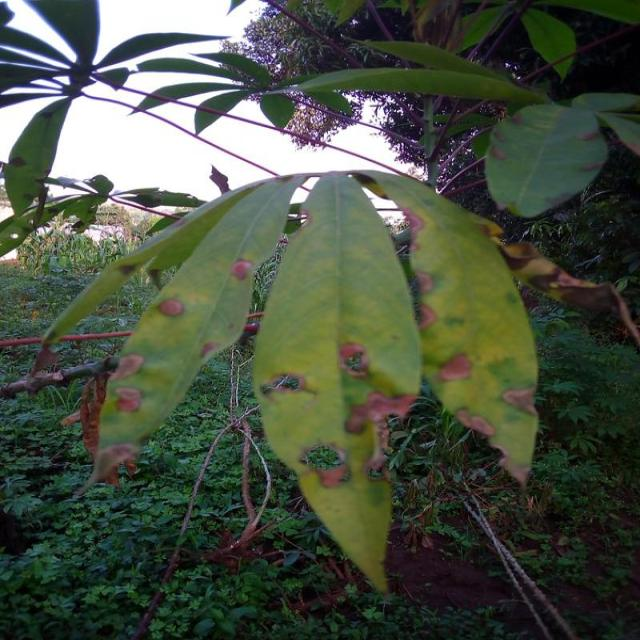cassava leaf: (251, 171, 423, 595), (90, 172, 310, 467), (352, 168, 540, 488), (484, 100, 609, 219)
